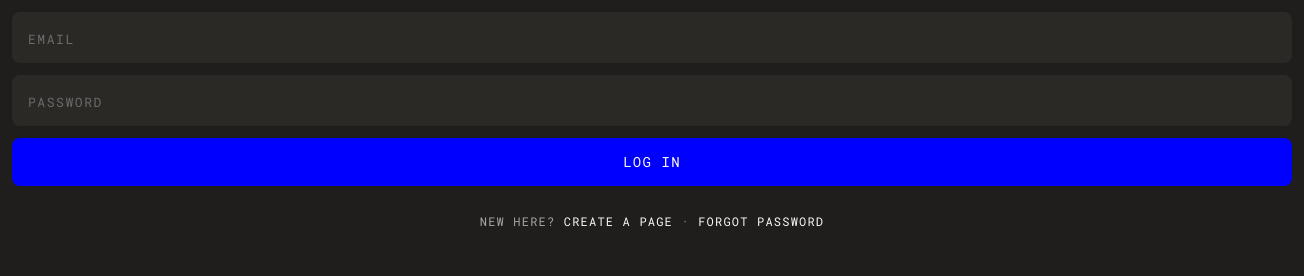
Test case: AuthForm › humanizes login errors and re-enables the button
The image size is (1304, 276).
In the field with placeholder "Email": (652, 38) [12,12,1292,63], type "a@b.com"
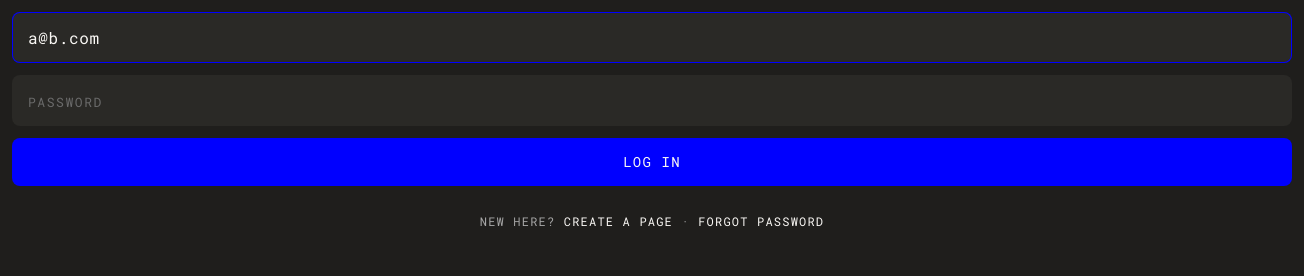
In the password field with placeholder "Password": (652, 101) [12,75,1292,126], type "secret123"
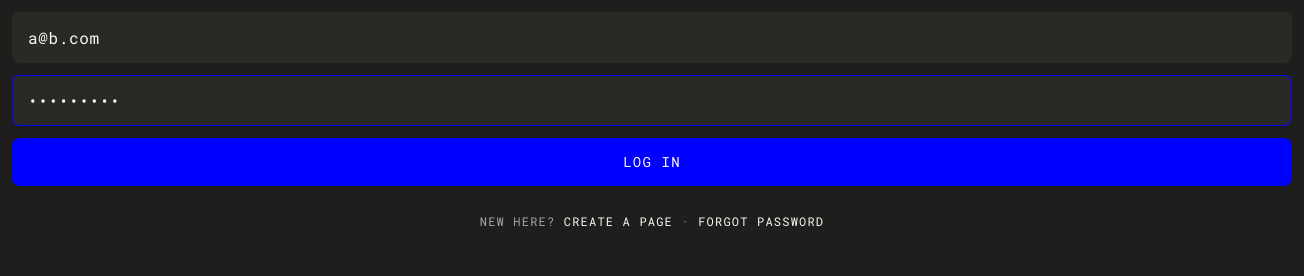
Click the button "Log in": (652, 162) [12,138,1292,186]
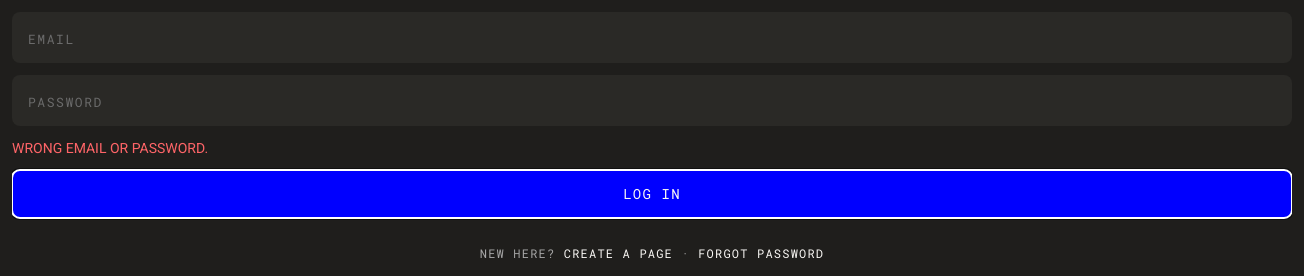
Expected: the button "Log in" is enabled, [12,170,1292,218]
Expected: the text "Wrong email or password." is shown, [12,140,208,156]
